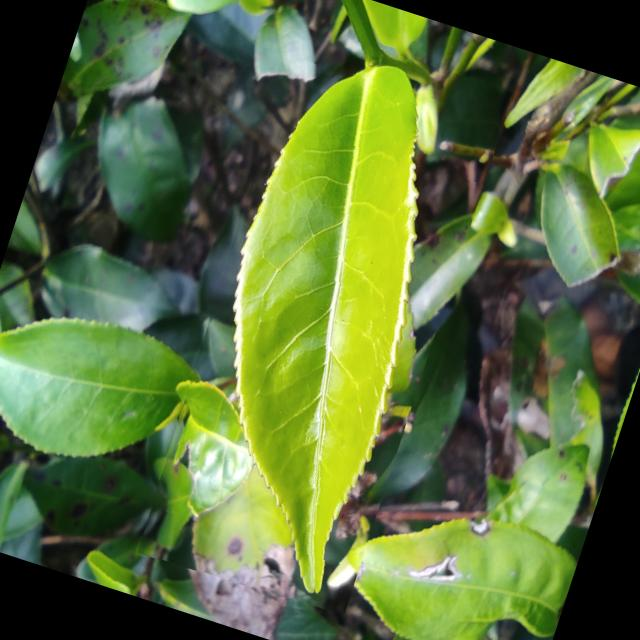Category B(2-4 days): (130, 23, 514, 620)
